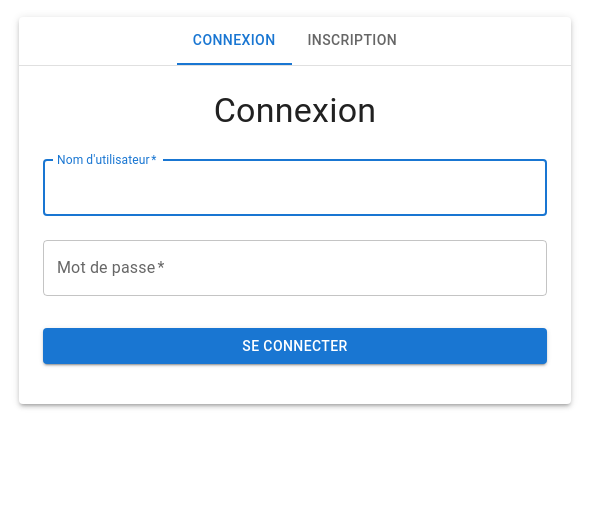
LoginPage › displays error message on failed login
Step 1. Type "wronguser" into the field labelled "Nom d'utilisateur *" → [295, 188], box left=43, top=160, right=547, bottom=216
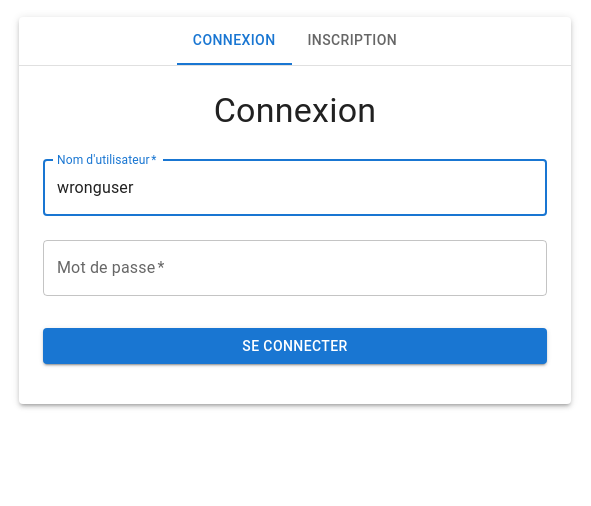
Step 2. Type "wrongpassword" into the password field labelled "Mot de passe *" → [295, 268], box left=43, top=240, right=547, bottom=296
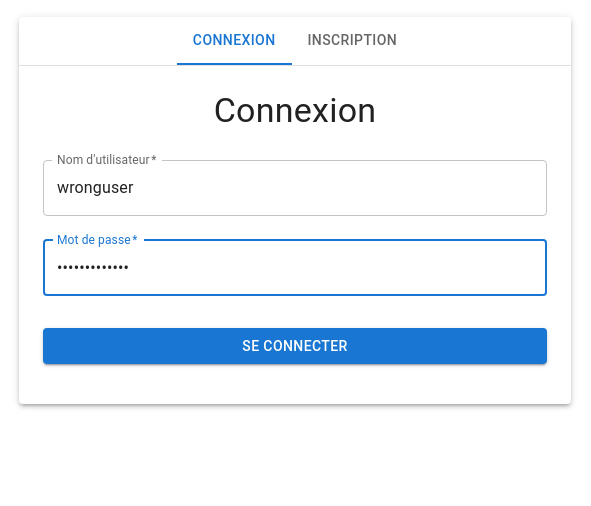
Step 3. Click the button "Se connecter" → [295, 346], box left=43, top=328, right=547, bottom=364
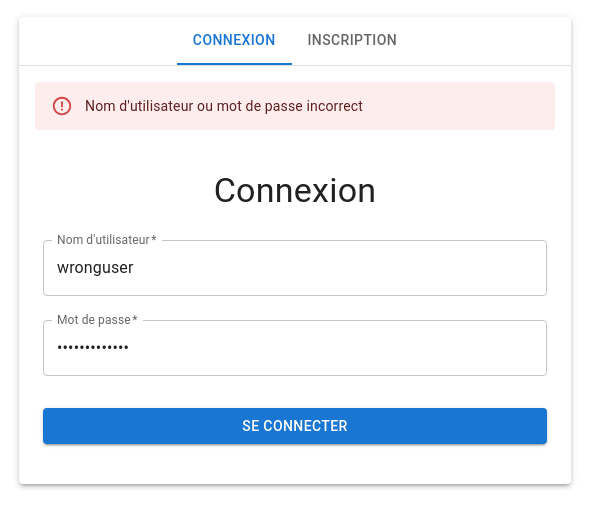
Check: the text "Nom d'utilisateur ou mot de passe incorrect" is shown, box left=85, top=98, right=363, bottom=114
